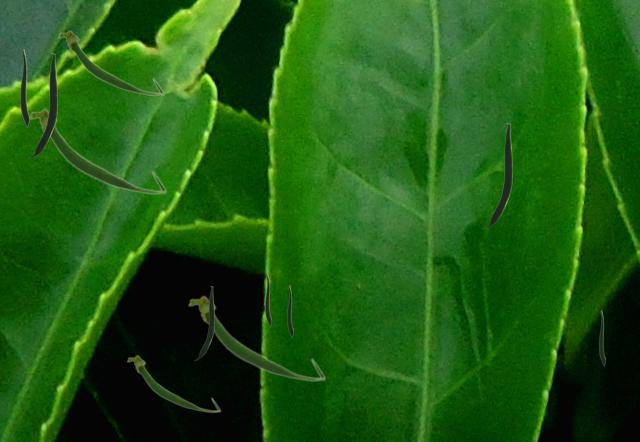french_bean: (187, 295, 325, 381), (29, 108, 166, 194), (57, 29, 163, 95), (126, 354, 220, 412), (484, 123, 511, 227), (29, 53, 56, 157), (195, 286, 213, 359), (20, 49, 28, 126), (599, 310, 604, 365), (265, 274, 270, 325), (287, 285, 292, 336)
